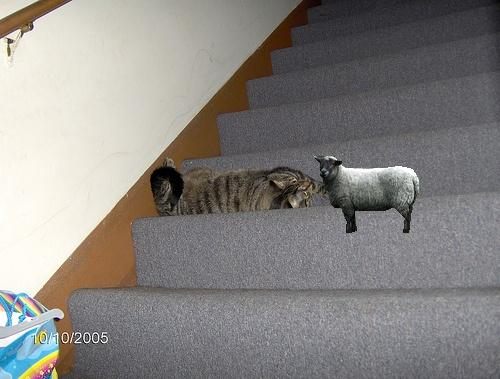tampered: (314, 156, 419, 233)
